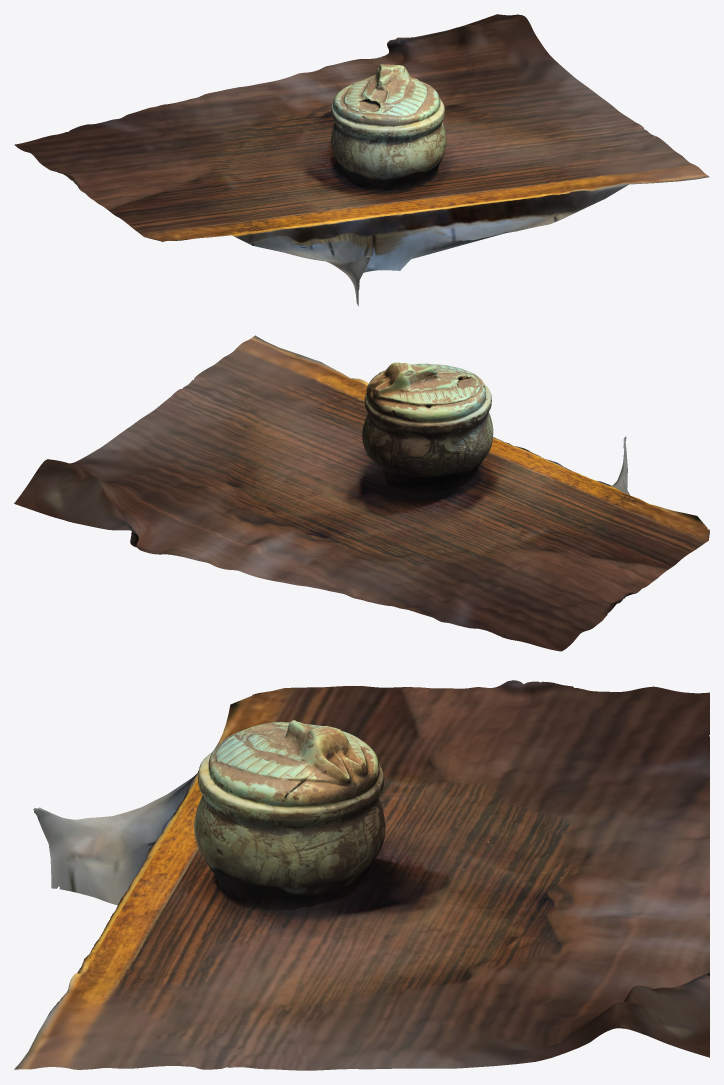
File: 3DModel.gltf
The picture shows the model from 3 angles, top to bottom: view 1: azimuth 30°, elevation 25°; view 2: azimuth 150°, elevation 25°; view 3: azimuth 270°, elevation 25°; orthographic projection. The views are drawn at different scales.
Visible parts, largest first — view 1: 3DModel; view 2: 3DModel; view 3: 3DModel.
Part boxes in pixels (x1,y1,x2,y2): 3DModel: (14, 14, 709, 305); 3DModel: (14, 335, 709, 651); 3DModel: (14, 680, 709, 1070).
Size of the model in its own units: 2.38 by 0.7181 by 1.81.
1 material, 1 textured.
